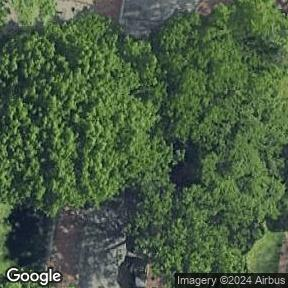vegetation: (0, 1, 288, 288)
